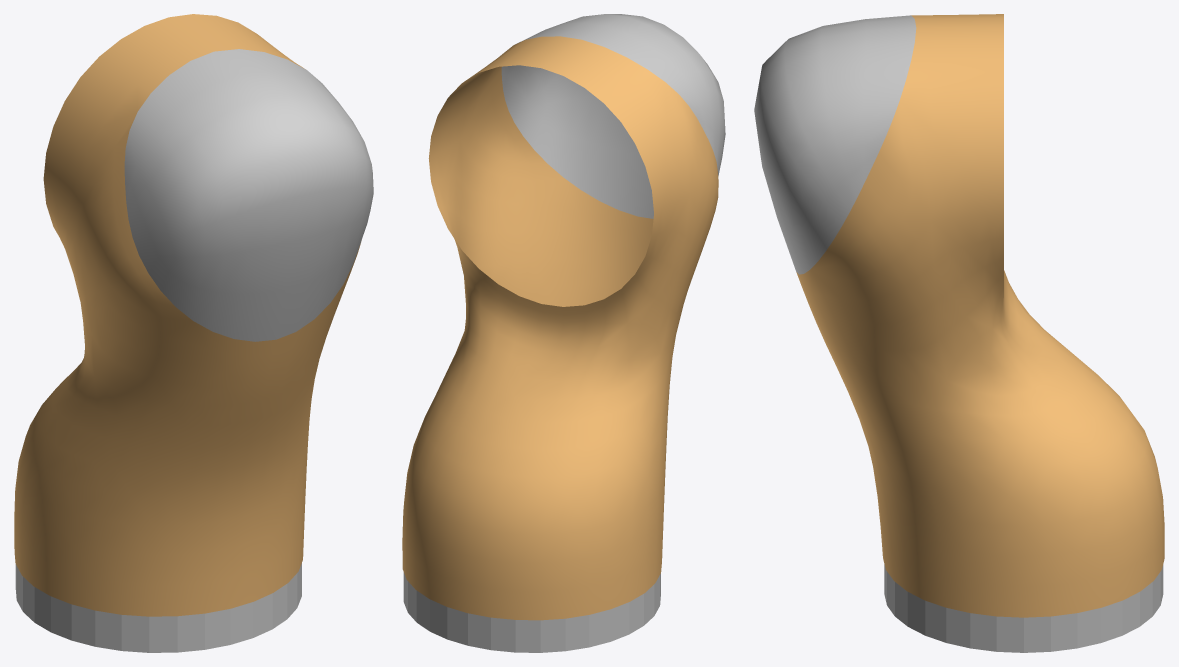
Rendered from arm_segment_b.dae.
3 renders of one model, left to right at view 1: azimuth 30°, elevation 25°; view 2: azimuth 150°, elevation 25°; view 3: azimuth 270°, elevation 25°, orthographic. The views are drawn at different scales.
Parts seen in each view (by area): view 1: segment; view 2: segment; view 3: segment.
Part boxes in pixels (box(x1,y1,x2,y2)): segment: box(14, 14, 373, 652); segment: box(402, 14, 725, 652); segment: box(754, 14, 1164, 652).
Size of the model in its own units: 0.124 by 0.1765 by 0.269.
